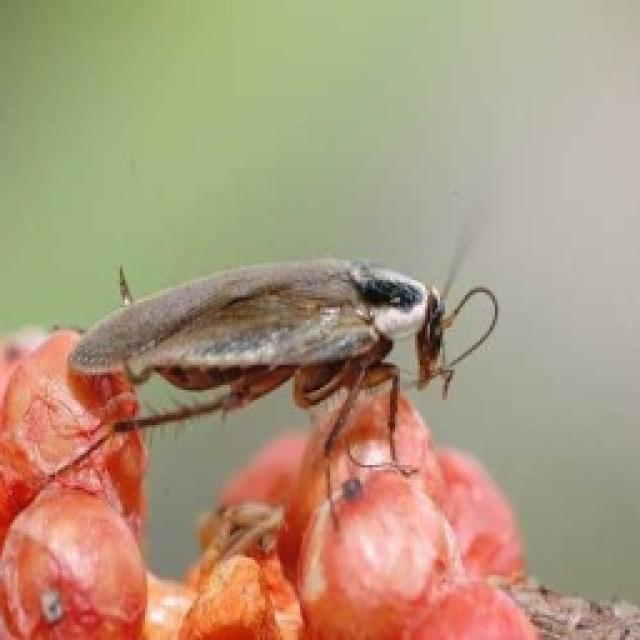cockroach: (63, 203, 514, 459)
